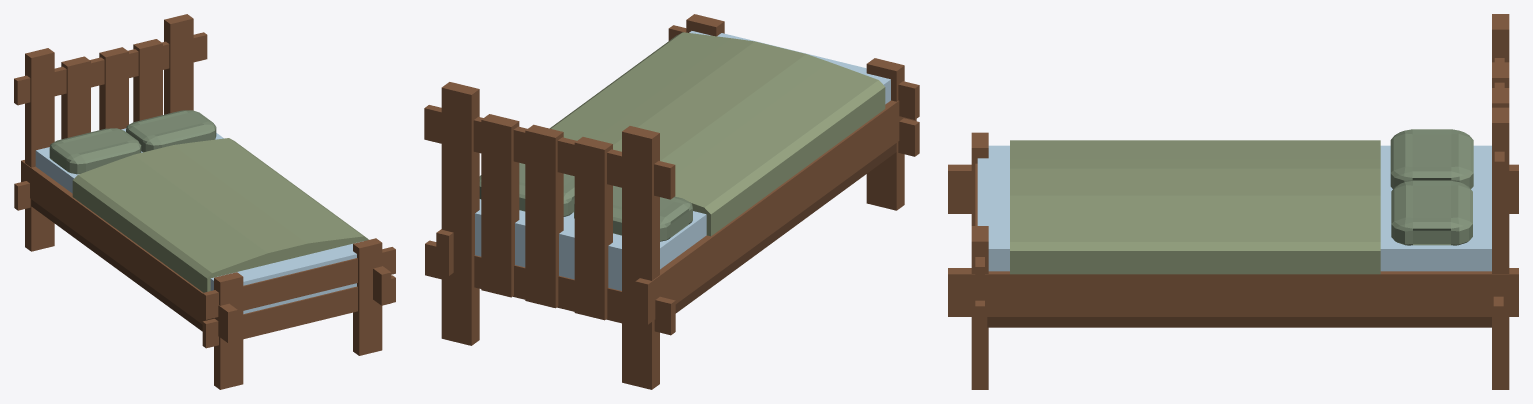
Rendered from Bed.fbx.
3 views of the same model, side by side, from view 1: azimuth 30°, elevation 25°; view 2: azimuth 150°, elevation 25°; view 3: azimuth 270°, elevation 25° (orthographic). The views are drawn at different scales.
Visible parts, largest first — view 1: Cube; view 2: Cube; view 3: Cube.
Boxes of the visible parts, <box> form: Cube: <box>14,14,395,389</box>; Cube: <box>424,14,919,389</box>; Cube: <box>948,14,1518,389</box>.
Size of the model in its own units: 543 by 529 by 1026.
